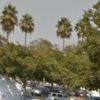Palm tree: (2, 2, 54, 57)
